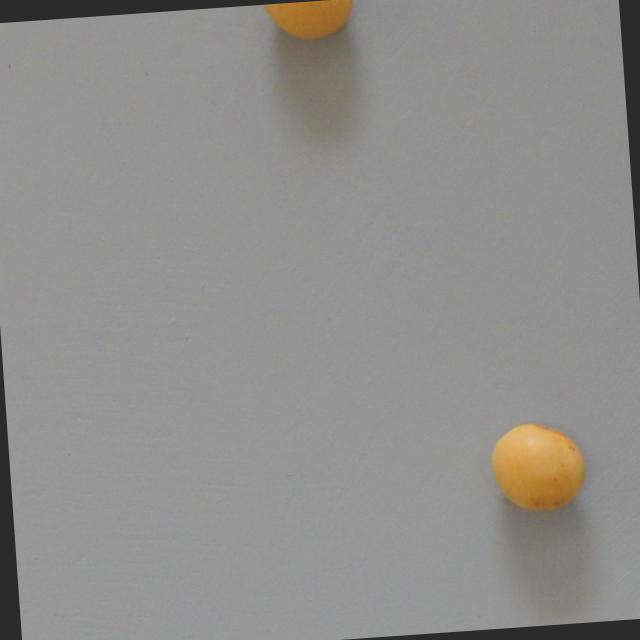cuerpos_extranos: (483, 416, 594, 524), (255, 0, 363, 48)
